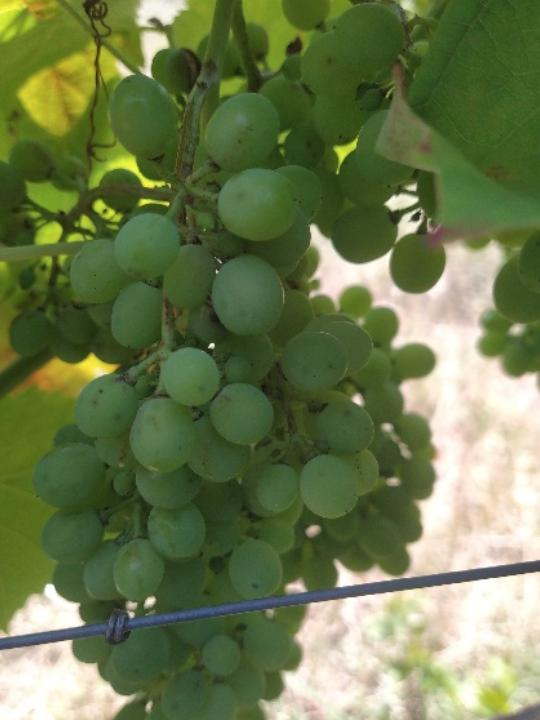grape: (0, 0, 460, 720)
